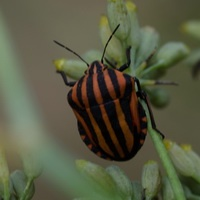insect: (55, 41, 159, 160)
